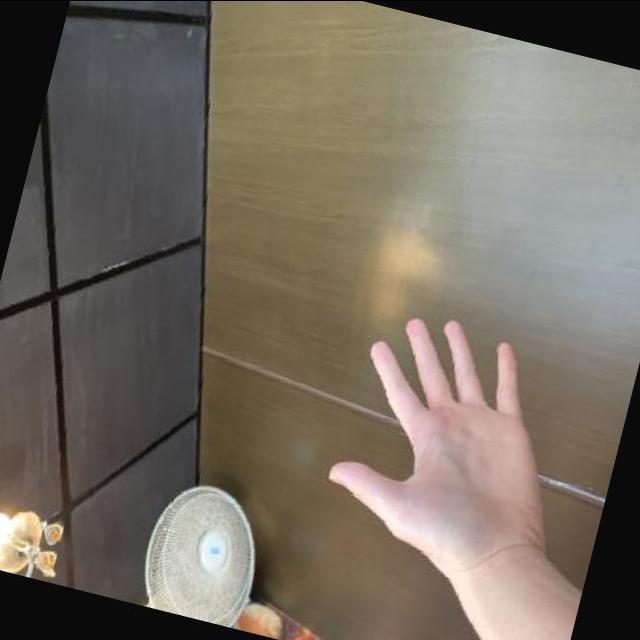hand: (292, 284, 590, 612)
